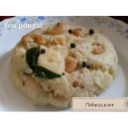venpongal: (13, 24, 118, 102)
